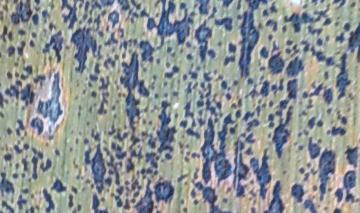tarspot: (118, 49, 151, 148), (145, 1, 200, 51), (200, 112, 236, 187), (272, 78, 301, 159), (236, 1, 266, 78), (70, 25, 103, 74), (36, 71, 64, 125), (194, 181, 234, 213), (232, 133, 251, 198), (156, 100, 178, 154), (248, 147, 269, 200), (318, 146, 337, 201), (335, 52, 353, 104), (41, 29, 66, 64), (101, 146, 123, 184), (261, 179, 285, 213), (194, 19, 213, 61), (91, 142, 107, 191), (59, 1, 83, 30), (134, 179, 154, 213), (346, 17, 360, 65), (301, 3, 332, 24), (10, 1, 35, 26), (342, 170, 360, 203), (309, 45, 336, 67), (153, 180, 176, 204), (285, 56, 306, 78), (4, 83, 21, 109), (267, 52, 284, 77), (138, 39, 155, 64), (124, 174, 142, 197), (343, 144, 359, 169), (183, 99, 196, 127), (1, 171, 15, 197), (290, 182, 306, 204), (213, 16, 235, 32), (21, 82, 35, 107), (42, 188, 56, 213), (307, 136, 322, 159), (91, 193, 108, 213), (109, 142, 127, 160), (49, 177, 68, 194), (106, 8, 121, 29), (30, 115, 45, 136), (97, 91, 110, 115), (140, 131, 157, 149), (144, 151, 159, 169), (244, 84, 260, 100), (244, 118, 261, 133), (322, 85, 334, 106), (20, 56, 34, 74), (129, 147, 144, 163), (196, 1, 211, 17), (163, 65, 180, 79), (104, 31, 118, 48), (118, 38, 139, 49), (303, 198, 318, 213), (264, 18, 279, 33), (308, 83, 324, 97), (335, 108, 348, 125), (306, 24, 323, 37), (204, 99, 216, 117), (14, 118, 26, 136), (102, 55, 116, 70), (1, 199, 16, 213), (259, 80, 270, 99), (221, 54, 237, 67), (83, 145, 92, 168), (40, 157, 52, 174), (16, 193, 27, 211), (115, 128, 129, 142), (32, 74, 46, 88), (331, 125, 347, 137), (333, 187, 344, 204), (182, 80, 193, 97), (89, 127, 102, 141), (89, 1, 102, 15), (212, 93, 222, 111), (98, 75, 110, 90), (16, 39, 26, 57), (207, 5, 218, 21), (186, 127, 200, 139), (176, 172, 190, 184), (269, 38, 281, 52), (330, 1, 348, 10), (300, 38, 310, 54), (108, 119, 116, 139), (147, 74, 157, 90), (116, 1, 132, 11), (41, 9, 51, 25), (334, 31, 346, 44), (30, 154, 36, 180), (306, 116, 317, 130), (21, 154, 30, 171), (94, 13, 102, 32), (229, 123, 241, 135), (243, 110, 255, 122), (202, 70, 214, 82), (283, 13, 301, 21), (112, 195, 123, 208), (259, 45, 269, 59), (268, 1, 278, 15), (267, 112, 275, 129), (244, 133, 256, 144), (227, 41, 238, 53), (6, 45, 16, 58), (31, 13, 40, 27), (1, 24, 8, 42), (178, 119, 189, 130), (213, 73, 224, 84), (196, 116, 206, 128), (67, 193, 75, 208), (126, 157, 134, 172), (220, 1, 235, 9), (12, 144, 24, 154), (121, 197, 130, 210), (292, 43, 301, 56), (77, 104, 84, 120), (117, 25, 125, 39), (129, 1, 143, 9), (243, 146, 254, 156), (188, 70, 198, 81), (139, 8, 150, 18), (206, 49, 218, 58), (97, 1, 115, 7), (48, 21, 57, 33), (205, 83, 212, 98), (71, 156, 79, 169), (293, 21, 301, 34), (82, 1, 90, 14), (185, 52, 195, 62), (88, 72, 98, 82), (93, 62, 102, 73), (342, 21, 351, 32), (193, 166, 200, 180), (306, 98, 314, 110), (271, 82, 277, 98), (224, 186, 233, 196), (104, 176, 113, 186), (27, 38, 36, 48), (315, 37, 323, 48), (2, 153, 13, 161), (74, 168, 81, 180), (6, 30, 13, 42), (189, 188, 198, 197), (191, 151, 200, 160), (224, 92, 233, 101), (97, 30, 106, 39), (301, 90, 309, 100), (234, 109, 242, 119), (236, 97, 244, 107), (196, 99, 204, 109), (199, 82, 207, 92), (115, 185, 123, 195), (285, 39, 295, 47), (19, 73, 29, 81), (323, 69, 329, 82), (178, 140, 185, 151), (6, 126, 13, 137), (14, 161, 21, 172), (16, 29, 27, 36), (296, 144, 305, 152), (164, 152, 173, 160), (284, 47, 292, 56), (84, 176, 92, 185), (323, 18, 332, 26), (235, 1, 243, 10), (53, 148, 62, 156), (22, 142, 30, 151), (332, 206, 342, 213), (303, 172, 310, 182), (279, 77, 284, 91), (247, 77, 254, 87), (281, 23, 288, 33), (87, 103, 93, 114), (82, 14, 88, 25), (53, 124, 59, 135), (255, 104, 260, 117), (267, 100, 275, 108), (182, 205, 190, 213), (70, 185, 78, 193), (171, 90, 179, 98), (349, 1, 357, 9), (11, 172, 19, 180), (317, 119, 324, 128), (302, 127, 309, 136), (232, 77, 239, 86), (220, 80, 227, 89), (226, 85, 233, 94), (80, 185, 87, 194), (261, 8, 268, 17), (131, 11, 140, 18), (86, 15, 93, 24), (48, 1, 55, 10), (32, 6, 41, 13), (37, 150, 44, 159), (5, 70, 12, 79), (1, 89, 4, 110), (120, 51, 126, 61), (65, 43, 71, 53), (311, 184, 318, 192), (305, 161, 313, 168), (310, 168, 318, 175), (325, 107, 332, 115), (249, 206, 257, 213), (221, 197, 229, 204), (325, 128, 332, 136), (70, 206, 78, 213), (110, 103, 117, 111), (185, 40, 192, 48), (165, 46, 173, 53), (82, 137, 89, 145), (192, 82, 199, 90), (74, 137, 81, 145), (107, 168, 114, 176), (90, 90, 97, 98), (146, 167, 153, 175), (73, 94, 80, 102), (129, 17, 136, 25), (100, 9, 107, 17), (30, 31, 38, 38), (13, 71, 20, 79), (20, 187, 28, 194), (29, 205, 36, 213), (46, 135, 55, 141), (309, 1, 319, 6), (47, 125, 52, 135), (298, 167, 305, 174), (183, 156, 190, 163), (259, 74, 266, 81), (259, 65, 266, 72), (213, 116, 220, 123), (164, 62, 171, 69), (181, 74, 188, 81), (173, 112, 180, 119), (153, 92, 160, 99), (85, 120, 92, 127), (81, 89, 88, 96), (15, 80, 22, 87), (34, 203, 41, 210), (267, 33, 273, 41), (163, 80, 169, 88), (184, 142, 190, 150), (155, 57, 161, 65), (129, 196, 135, 204), (198, 92, 204, 100), (310, 80, 316, 88), (86, 81, 94, 87), (153, 169, 159, 177), (332, 21, 340, 27), (31, 147, 37, 155), (1, 110, 5, 121), (281, 169, 288, 175), (193, 199, 199, 206), (296, 131, 302, 138), (324, 35, 330, 42), (230, 103, 237, 109), (217, 41, 223, 48), (197, 109, 203, 116), (163, 91, 169, 98), (170, 51, 176, 58), (68, 146, 74, 153), (147, 119, 153, 126), (113, 53, 119, 60), (124, 179, 131, 185), (20, 172, 26, 179), (3, 97, 9, 104), (266, 131, 271, 139), (90, 182, 95, 190), (141, 118, 146, 126), (323, 206, 329, 212), (185, 150, 191, 156), (179, 48, 185, 54), (155, 155, 161, 161), (302, 3, 308, 9), (33, 1, 42, 5), (77, 130, 83, 136), (316, 138, 323, 143), (180, 198, 185, 205), (77, 204, 82, 211), (213, 68, 218, 75), (140, 168, 145, 175), (112, 112, 117, 119), (117, 91, 122, 98), (8, 161, 13, 168), (29, 193, 34, 200), (123, 123, 127, 131), (100, 196, 105, 202), (80, 175, 85, 181), (13, 61, 18, 67), (44, 141, 49, 147), (70, 128, 74, 135), (154, 210, 163, 213), (327, 187, 332, 192), (122, 92, 126, 98), (336, 16, 341, 20), (24, 209, 29, 213), (320, 1, 326, 4), (1, 51, 3, 58), (1, 209, 4, 213)
